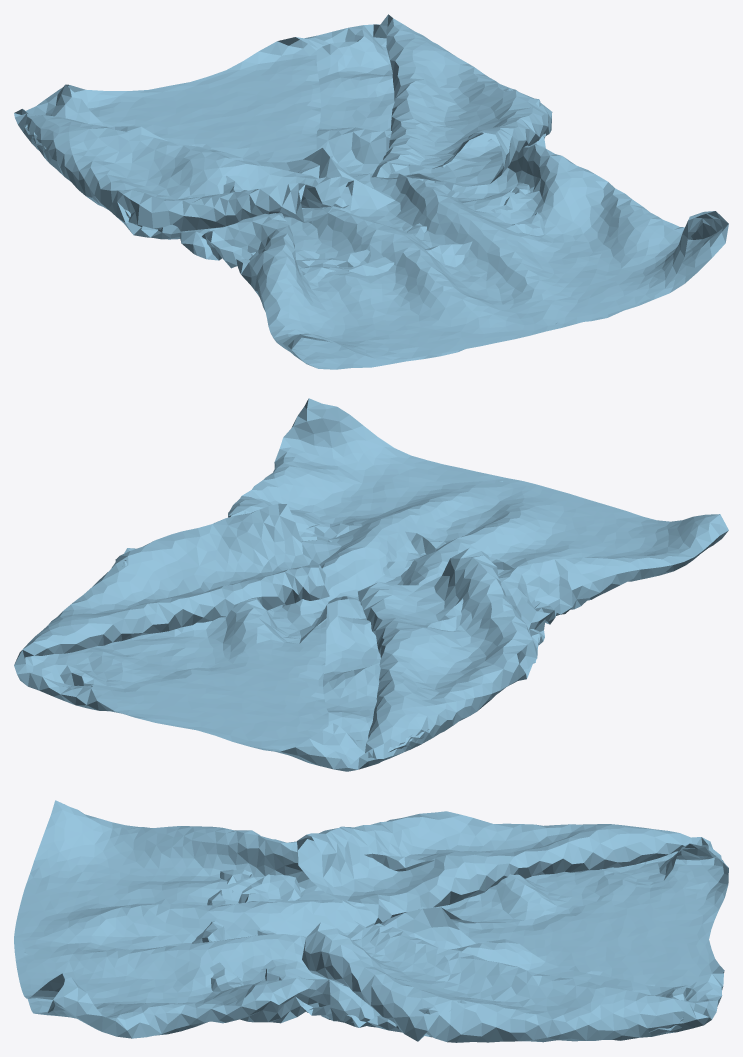
File: frame_01.glb
3 renders of one model, top to bottom at view 1: azimuth 30°, elevation 25°; view 2: azimuth 150°, elevation 25°; view 3: azimuth 270°, elevation 25°, orthographic. The views are drawn at different scales.
Parts seen in each view (by area): view 1: frame_01.obj; view 2: frame_01.obj; view 3: frame_01.obj.
Part boxes in pixels (box(x1,y1,x2,y2)): frame_01.obj: box(14, 14, 728, 369); frame_01.obj: box(14, 398, 728, 771); frame_01.obj: box(14, 800, 728, 1042).
Bounding box in the file's own units: 1.24 × 0.1962 × 1.72.
